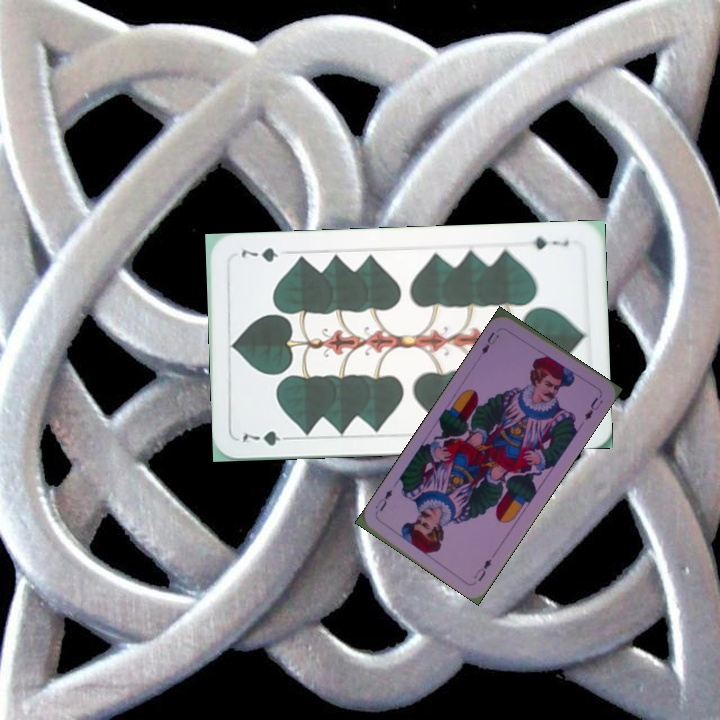EU: (477, 328, 501, 357), (470, 555, 494, 584)
G7: (239, 426, 296, 448), (520, 233, 571, 252)
